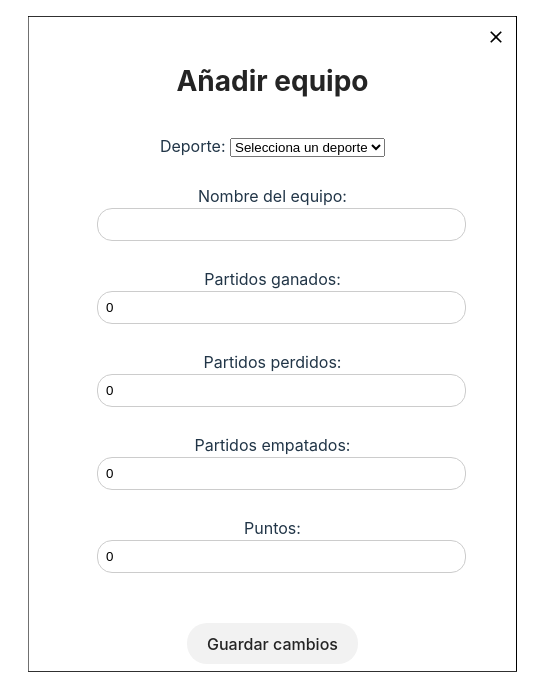
Scenario: AdminModalTeams Component › Input Validation and Error Messages › shows error message for negative partidos ganados
Replace the text in the number field labelled "Partidos ganados:" with "-1". click: (281, 308)
box: x1=96 y1=291 x2=466 y2=324
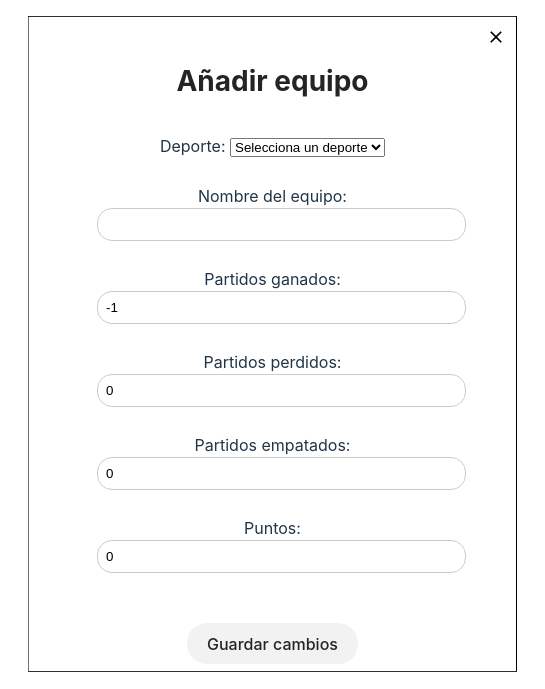
Click the button "Guardar cambios". click: (272, 644)
box: x1=186 y1=623 x2=358 y2=664
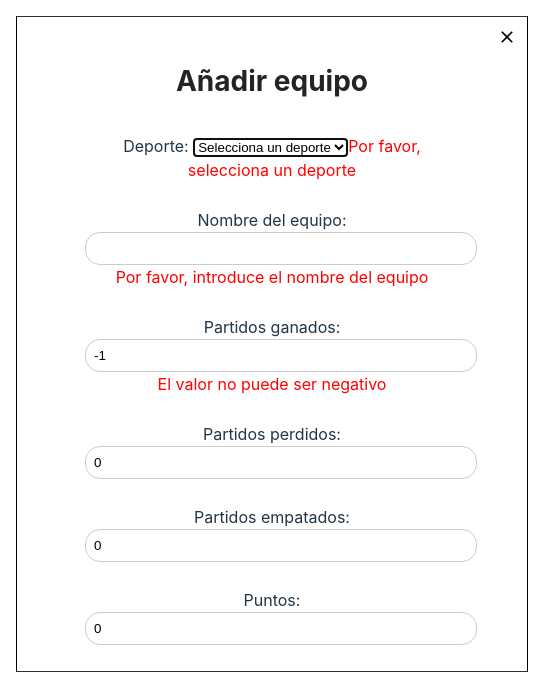
Check: the text "El valor no puede ser negativo" is shown, box x1=158 y1=374 x2=386 y2=394
